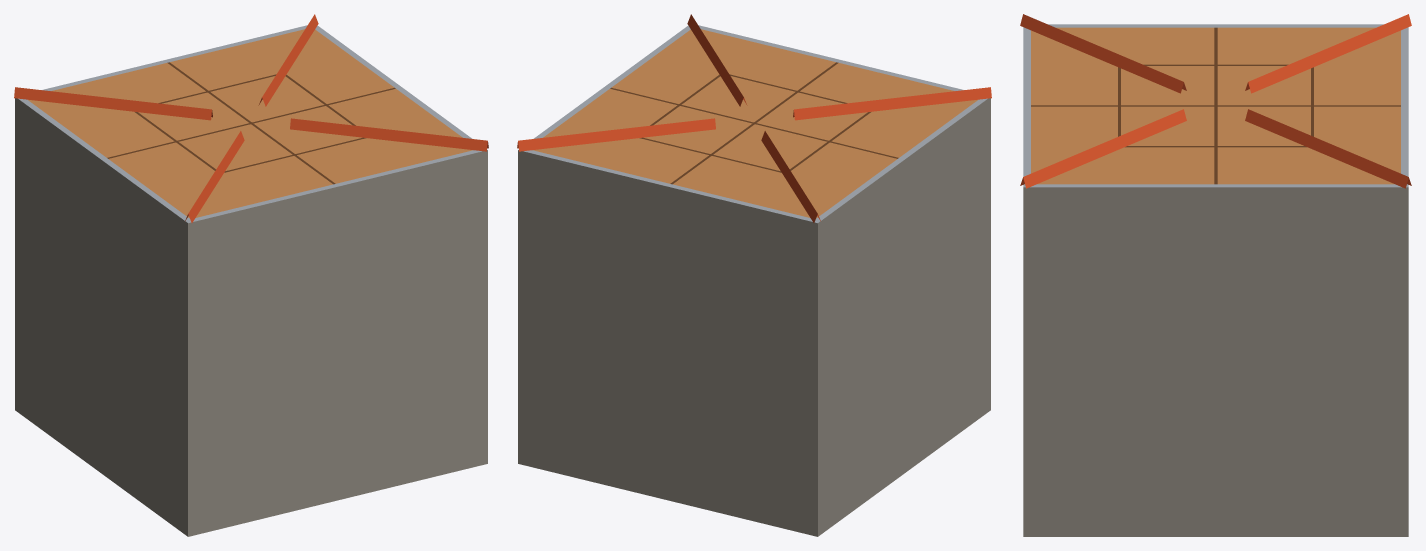
The model's file is kit-hip-low.glb.
3 renders of one model, left to right at view 1: azimuth 30°, elevation 25°; view 2: azimuth 150°, elevation 25°; view 3: azimuth 270°, elevation 25°, orthographic. The views are drawn at different scales.
Visible parts, largest first — view 1: hip.001; view 2: hip.001; view 3: hip.001.
Boxes of the visible parts, left/top/right/bottom form: hip.001: left=14, top=14, right=488, bottom=536; hip.001: left=517, top=14, right=991, bottom=536; hip.001: left=1020, top=14, right=1411, bottom=536.
Size of the model in its own units: 1.02 by 1.03 by 1.02.
